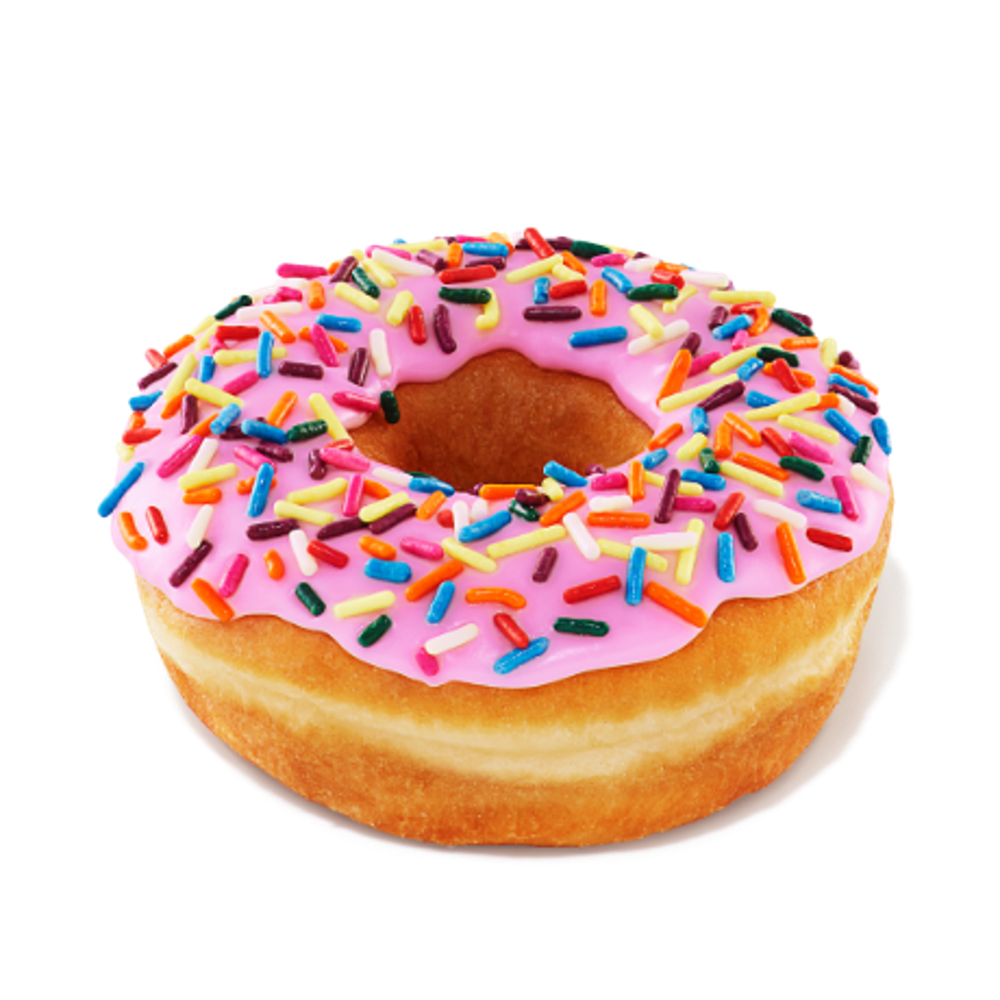donut: (74, 194, 910, 862)
